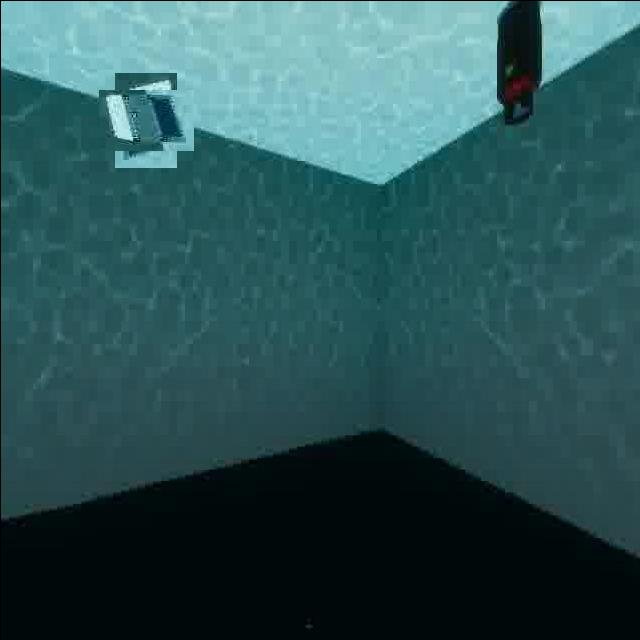Cylinder: (487, 0, 546, 134)
Docking Station: (106, 80, 184, 158)
